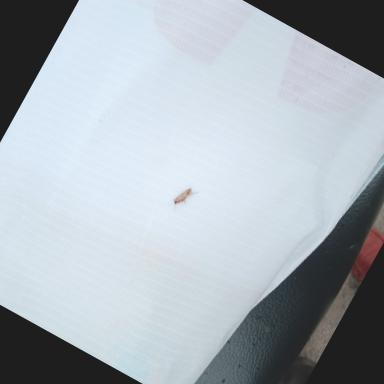pbw: (168, 183, 199, 217)
